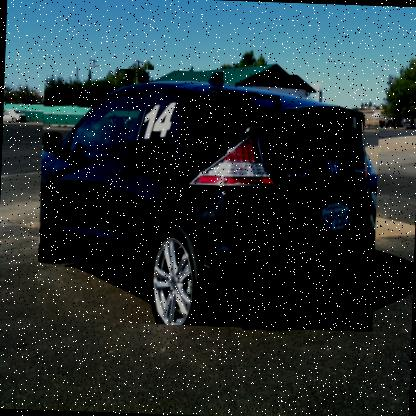Car: (37, 67, 382, 332), (2, 108, 26, 124)
